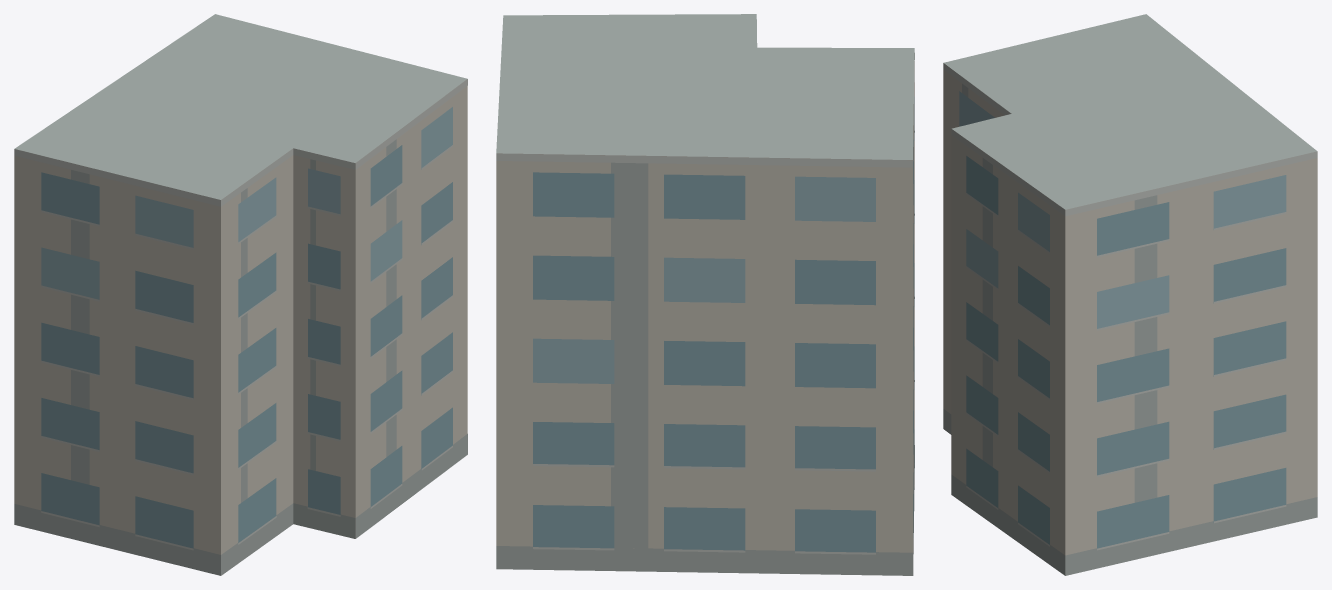
The model's file is survey-upis-32721140.glb.
The picture shows the model from 3 angles, left to right: view 1: azimuth 30°, elevation 25°; view 2: azimuth 150°, elevation 25°; view 3: azimuth 270°, elevation 25°; orthographic projection. The views are drawn at different scales.
Visible parts, largest first — view 1: survey-upis-32721140.tmp; view 2: survey-upis-32721140.tmp; view 3: survey-upis-32721140.tmp.
Boxes of the visible parts, x1=… form: survey-upis-32721140.tmp: x1=14, y1=14, x2=467, y2=575; survey-upis-32721140.tmp: x1=496, y1=14, x2=914, y2=575; survey-upis-32721140.tmp: x1=943, y1=14, x2=1317, y2=575.
Bounding box in the file's own units: 15.44 × 13.45 × 12.47.
